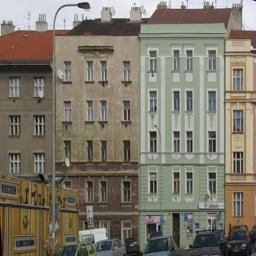building: (53, 0, 225, 242)
